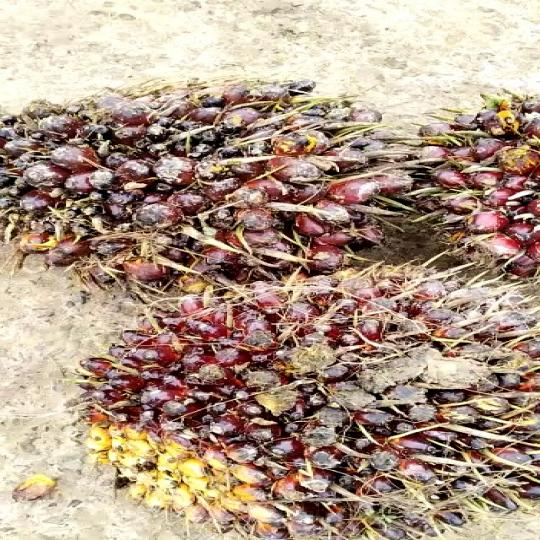kurang masak: (86, 277, 540, 538), (0, 57, 440, 324)
